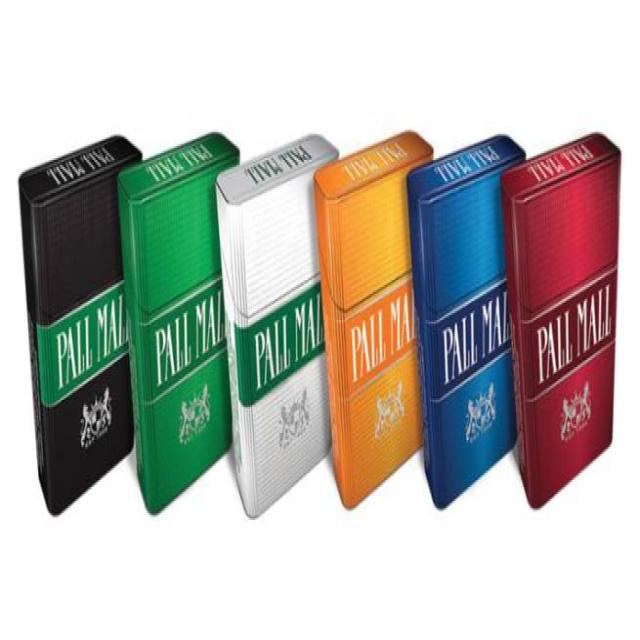pallmall: (403, 123, 532, 530), (312, 122, 432, 546), (215, 122, 337, 538), (500, 131, 623, 531), (117, 129, 240, 516), (22, 145, 134, 516)
